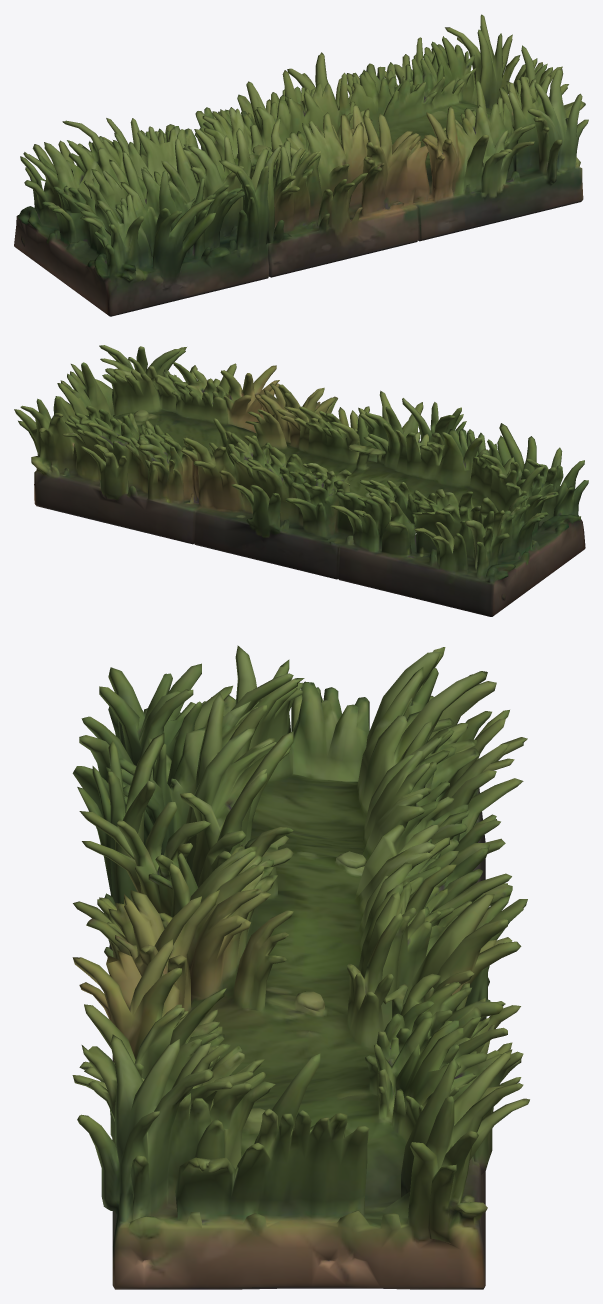
The model's file is grass patch 3d model.glb.
The picture shows the model from 3 angles, top to bottom: view 1: azimuth 30°, elevation 25°; view 2: azimuth 150°, elevation 25°; view 3: azimuth 270°, elevation 25°; orthographic projection. The views are drawn at different scales.
Visible parts, largest first — view 1: tripo_node_bf077a41-cc7d-4383-83aa-7293e8e2d6ff; view 2: tripo_node_bf077a41-cc7d-4383-83aa-7293e8e2d6ff; view 3: tripo_node_bf077a41-cc7d-4383-83aa-7293e8e2d6ff.
Part boxes in pixels (x1,y1,x2,y2): tripo_node_bf077a41-cc7d-4383-83aa-7293e8e2d6ff: (14, 14, 588, 316); tripo_node_bf077a41-cc7d-4383-83aa-7293e8e2d6ff: (14, 345, 588, 616); tripo_node_bf077a41-cc7d-4383-83aa-7293e8e2d6ff: (72, 645, 529, 1289).
Bounding box in the file's own units: 0.9807 × 0.2284 × 0.3934.
Materials: 1 (1 with a texture image).
